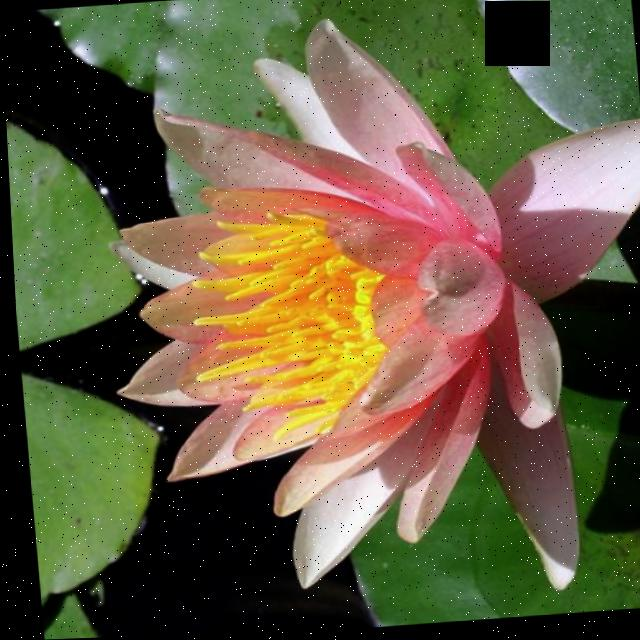water-lily: (95, 37, 639, 589)
